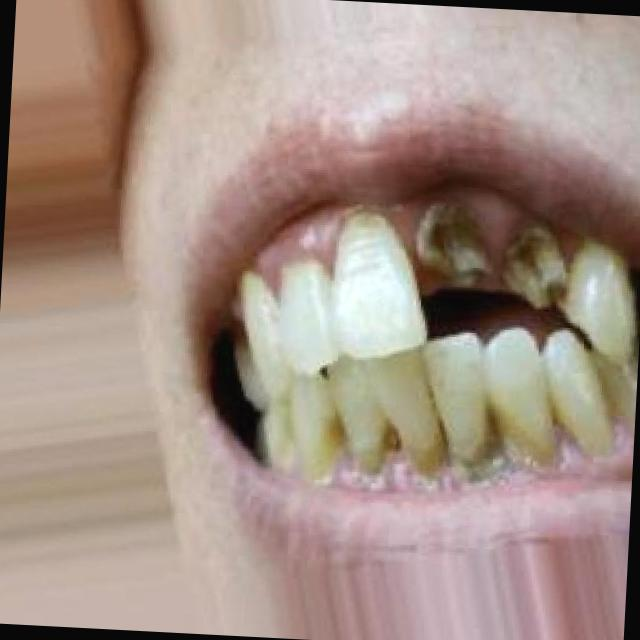caries: (422, 205, 486, 281), (510, 230, 568, 306)
